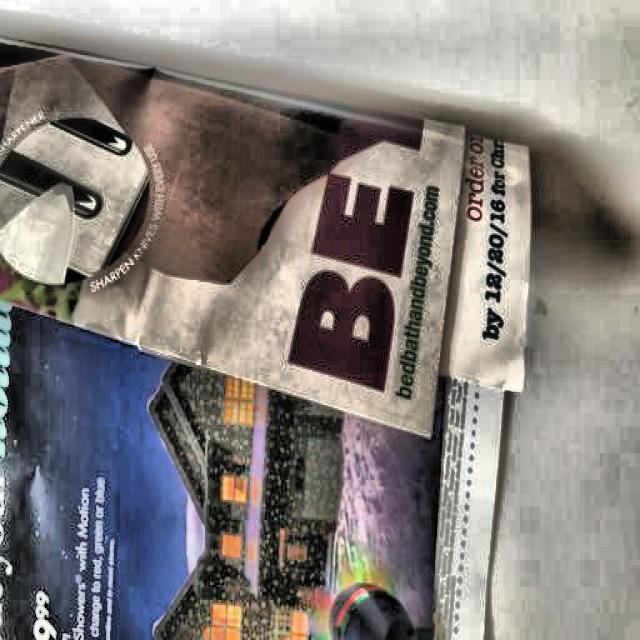paper: (0, 5, 559, 627)
